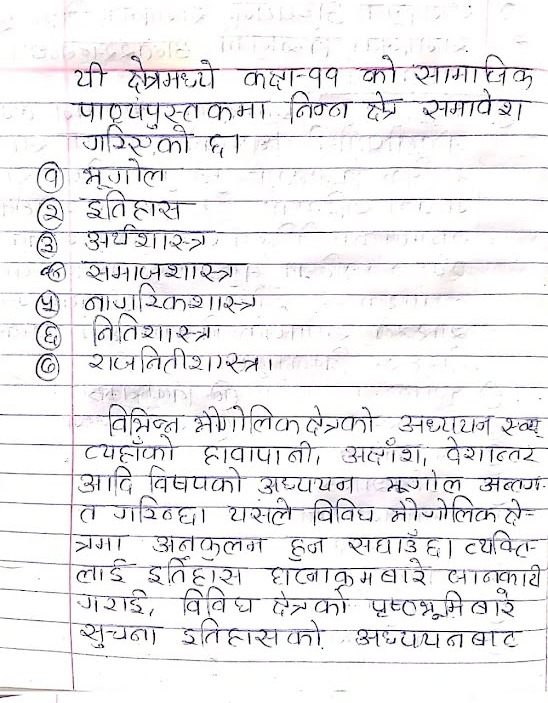text: (191, 402, 378, 435), (69, 98, 269, 128), (82, 346, 274, 375), (81, 283, 258, 314), (179, 615, 326, 651), (262, 555, 434, 584), (364, 588, 517, 620), (413, 53, 537, 92), (348, 625, 526, 652), (84, 313, 218, 346), (80, 259, 250, 284), (76, 223, 217, 252), (122, 54, 218, 96), (416, 88, 526, 124), (76, 190, 196, 222), (80, 124, 197, 156), (145, 555, 248, 588), (387, 497, 497, 527), (145, 462, 246, 494), (147, 532, 266, 559), (100, 401, 182, 438), (440, 436, 541, 466), (111, 493, 199, 527), (201, 441, 316, 467), (343, 530, 445, 559), (75, 619, 163, 651), (80, 157, 167, 189), (173, 584, 258, 616), (79, 435, 176, 463), (268, 587, 352, 619), (255, 471, 358, 497), (444, 563, 542, 590), (395, 411, 493, 436), (385, 468, 465, 497), (284, 91, 351, 125), (70, 590, 152, 617), (225, 496, 296, 527), (304, 497, 380, 525), (463, 530, 533, 560), (76, 463, 134, 498), (339, 441, 421, 465), (237, 60, 299, 90), (356, 52, 399, 89), (76, 557, 131, 585), (477, 471, 542, 493), (68, 532, 130, 555), (362, 89, 401, 122), (71, 59, 109, 92), (499, 414, 548, 439), (285, 535, 327, 562), (306, 64, 341, 90), (204, 130, 229, 160), (74, 500, 104, 525), (502, 497, 525, 527), (39, 323, 62, 348), (39, 164, 61, 190), (37, 295, 60, 317), (43, 202, 62, 224), (38, 355, 57, 376), (39, 236, 57, 255)
